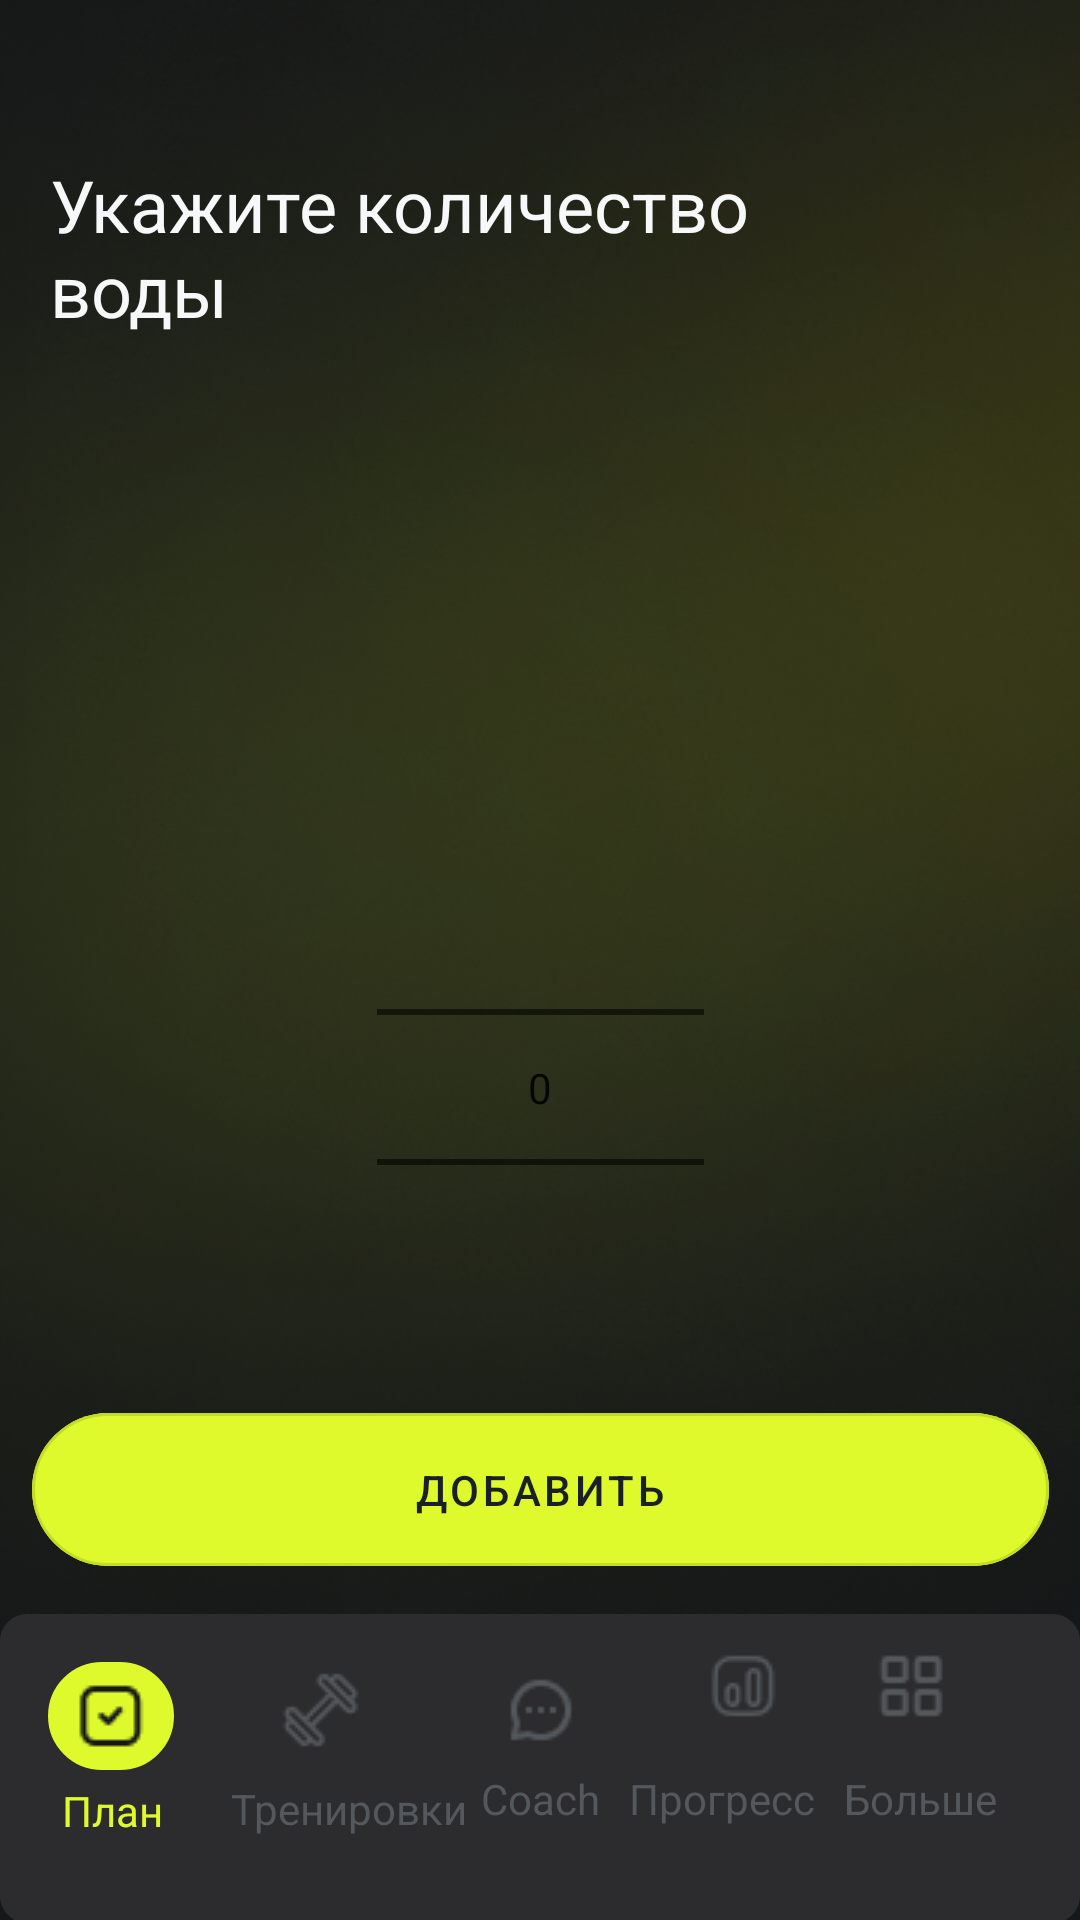

Named icons in this screenshot (1080×1920) and their bounding boxes, {"left": x1, "top": y1, "right": x2, "bottom": y2}:
iconchattt: {"left": 511, "top": 1680, "right": 571, "bottom": 1740}
iconmoree: {"left": 882, "top": 1656, "right": 941, "bottom": 1716}
progressicon: {"left": 713, "top": 1656, "right": 773, "bottom": 1716}
trainingicon: {"left": 285, "top": 1674, "right": 357, "bottom": 1746}
